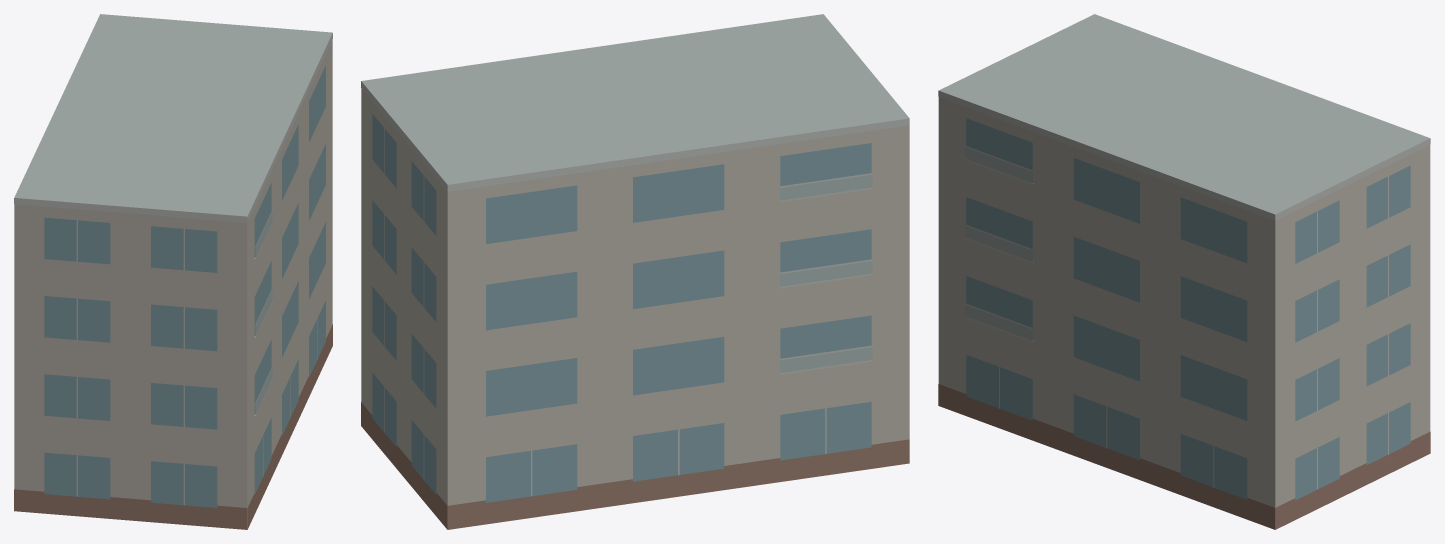
File: survey-upis-32893589.glb
The picture shows the model from 3 angles, left to right: view 1: azimuth 30°, elevation 25°; view 2: azimuth 150°, elevation 25°; view 3: azimuth 270°, elevation 25°; orthographic projection. The views are drawn at different scales.
Parts seen in each view (by area): view 1: survey-upis-32893589.tmp; view 2: survey-upis-32893589.tmp; view 3: survey-upis-32893589.tmp.
Part boxes in pixels (x1,y1,x2,y2): survey-upis-32893589.tmp: [14, 14, 332, 529]; survey-upis-32893589.tmp: [361, 14, 909, 529]; survey-upis-32893589.tmp: [938, 14, 1430, 529].
Size of the model in its own units: 16.65 by 12.2 by 17.25.
